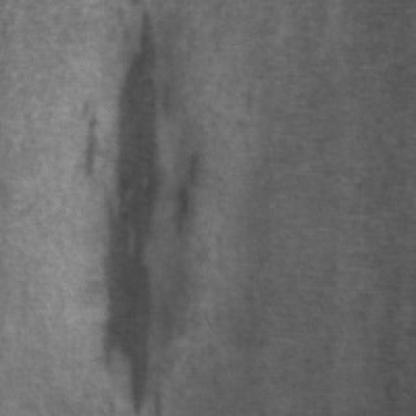inclusion: (66, 4, 172, 410), (164, 141, 214, 237)
